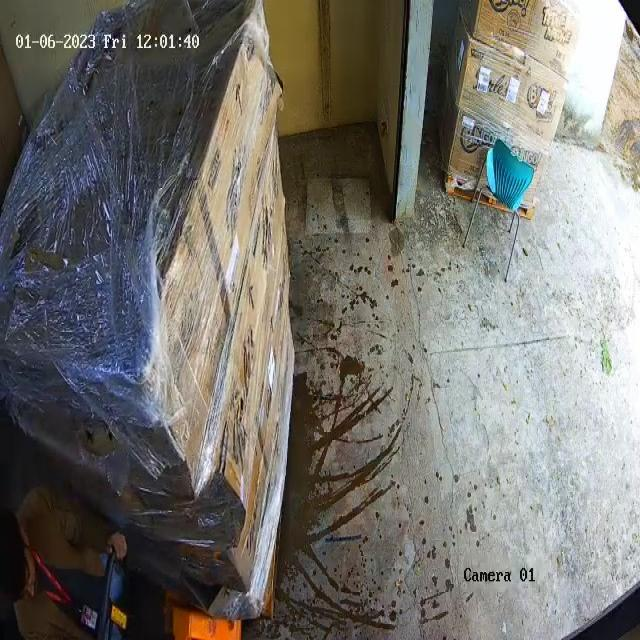leakage: (273, 61, 293, 136), (229, 367, 243, 428)
squeeze: (92, 264, 188, 468), (236, 11, 266, 58)
